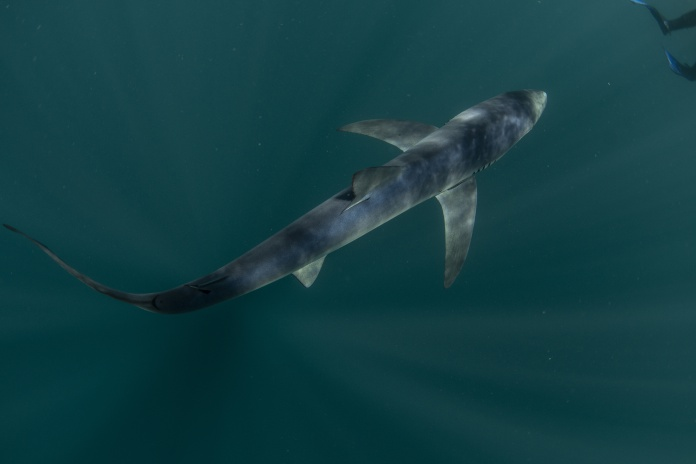Azul: (11, 59, 549, 332)
